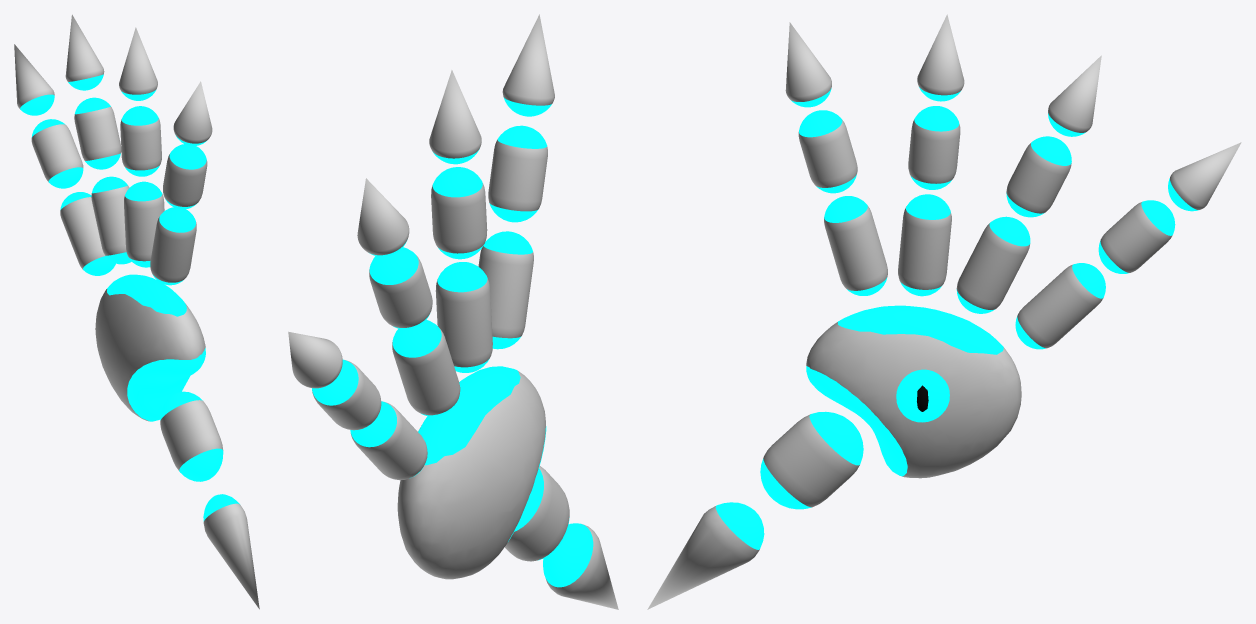
Rendered from Leftie.fbx.
3 views of the same model, side by side, from view 1: azimuth 30°, elevation 25°; view 2: azimuth 150°, elevation 25°; view 3: azimuth 270°, elevation 25° (orthographic). The views are drawn at different scales.
Parts seen in each view (by area): view 1: Sphere.018, Sphere.023, Sphere.024, Sphere.017, Sphere.027, Sphere.020, Sphere.026, Sphere.025, Sphere.022, Sphere.021, Sphere.032, Sphere.031 (+3 smaller); view 2: Sphere.018, Sphere.020, Sphere.021, Sphere.032, Sphere.017, Sphere.022, Sphere.024, Sphere.027, Sphere.023, Sphere.025, Sphere.028, Sphere.026 (+3 smaller); view 3: Sphere.018, Sphere.023, Sphere.024, Sphere.025, Sphere.021, Sphere.020, Sphere.017, Sphere.026, Sphere.027, Sphere.032, Sphere.022, Sphere.030 (+4 smaller).
Part boxes in pixels (x1,y1,x2,y2): Sphere.018: (95, 274, 205, 421); Sphere.023: (160, 391, 223, 481); Sphere.024: (203, 494, 259, 609); Sphere.017: (150, 207, 196, 285); Sphere.027: (74, 97, 121, 169); Sphere.020: (124, 181, 164, 267); Sphere.026: (31, 119, 83, 188); Sphere.025: (60, 192, 115, 275); Sphere.022: (120, 106, 161, 176); Sphere.021: (91, 176, 131, 264); Sphere.032: (163, 144, 207, 209); Sphere.031: (65, 14, 104, 90); Sphere.018: (397, 366, 546, 579); Sphere.020: (435, 262, 492, 372); Sphere.021: (392, 320, 460, 416); Sphere.032: (488, 125, 547, 222); Sphere.017: (478, 231, 533, 349); Sphere.022: (431, 167, 487, 259); Sphere.024: (543, 523, 618, 609); Sphere.027: (369, 247, 432, 329); Sphere.023: (505, 466, 569, 561); Sphere.025: (350, 401, 427, 480); Sphere.028: (502, 14, 554, 116); Sphere.026: (312, 359, 381, 430); Sphere.018: (806, 305, 1021, 478); Sphere.023: (760, 411, 863, 509); Sphere.024: (647, 502, 764, 609); Sphere.025: (1015, 263, 1105, 349); Sphere.021: (956, 216, 1030, 313); Sphere.020: (898, 194, 951, 296); Sphere.017: (824, 196, 887, 295); Sphere.026: (1098, 200, 1175, 273); Sphere.027: (1006, 136, 1071, 217); Sphere.032: (798, 110, 857, 193); Sphere.022: (908, 106, 960, 189); Sphere.030: (1168, 142, 1241, 211).
Bounding box in the file's own units: 544 × 3357 × 3036.
